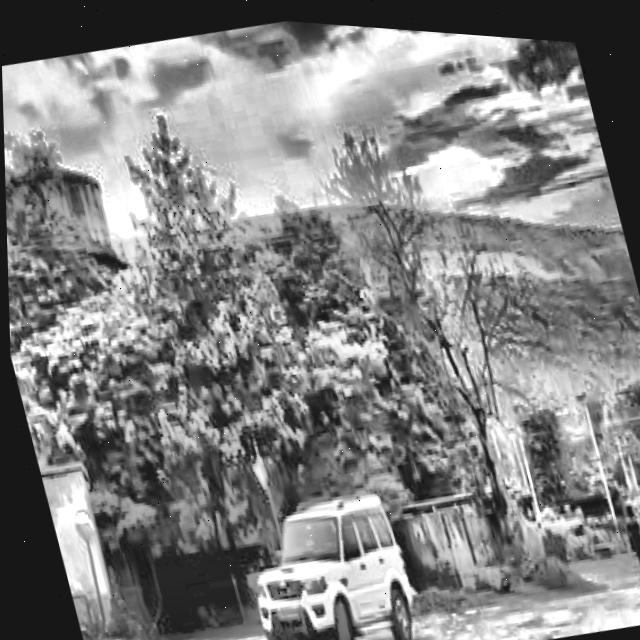light_vehicle: (228, 473, 425, 640)
